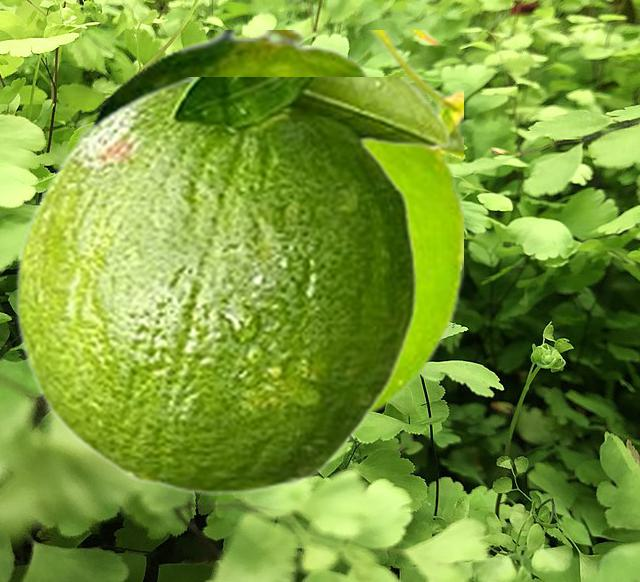dalandan: (14, 77, 451, 494), (90, 30, 462, 422)
